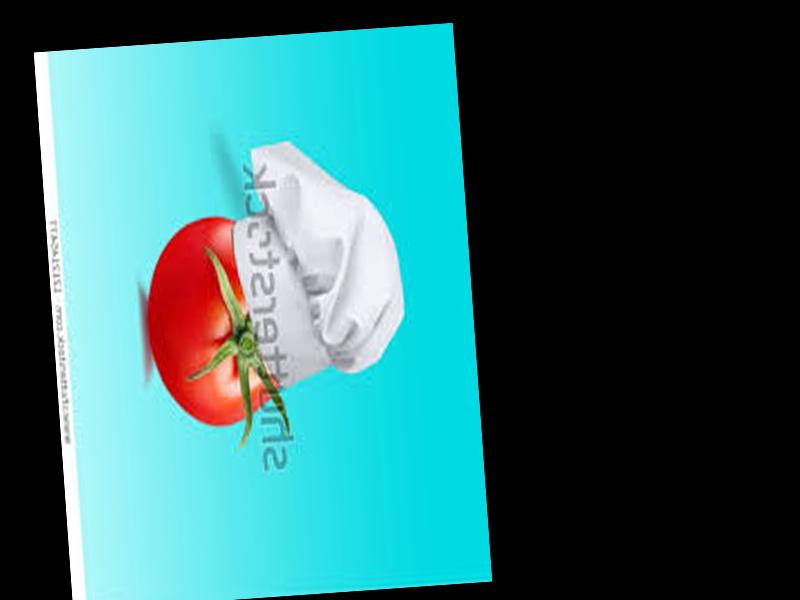Tomato: (143, 213, 282, 426)
